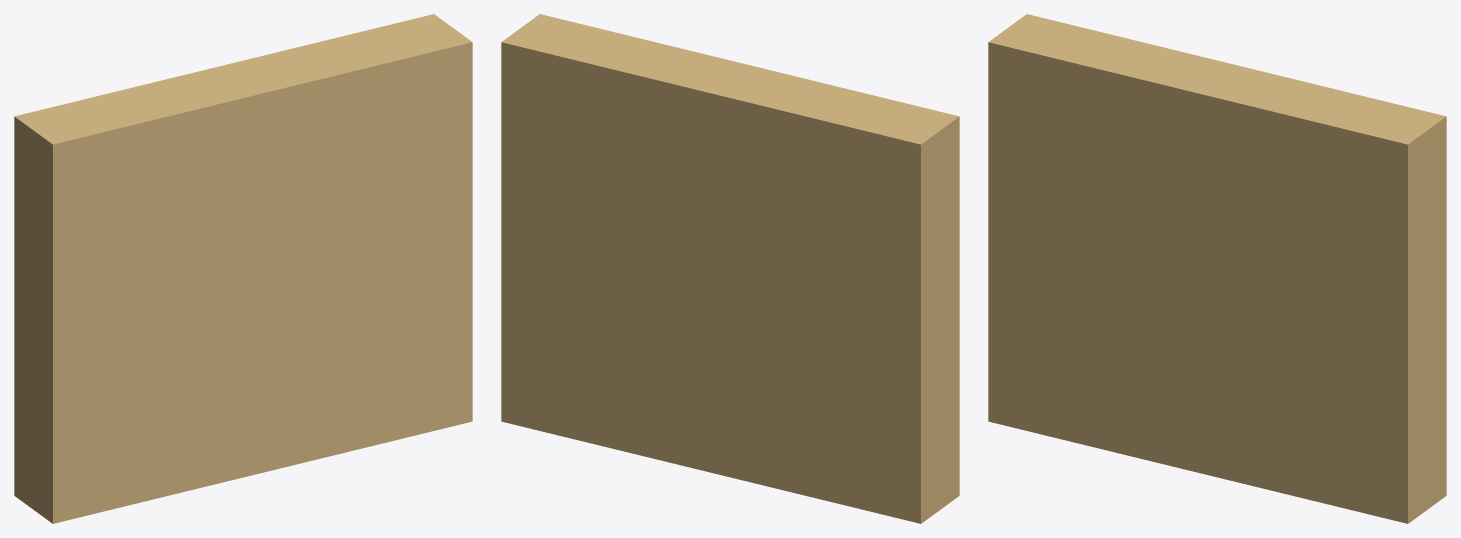
The picture shows the model from 3 angles, left to right: view 1: azimuth 30°, elevation 25°; view 2: azimuth 150°, elevation 25°; view 3: azimuth 330°, elevation 25°; orthographic projection.
Parts seen in each view (by area): view 1: GF-L12-BLK-SUP-B4-S1-011; view 2: GF-L12-BLK-SUP-B4-S1-011; view 3: GF-L12-BLK-SUP-B4-S1-011.
Boxes of the visible parts, x1,y1,x2,y2 form: GF-L12-BLK-SUP-B4-S1-011: (14, 14, 472, 523); GF-L12-BLK-SUP-B4-S1-011: (501, 14, 959, 523); GF-L12-BLK-SUP-B4-S1-011: (988, 14, 1446, 523).
Size of the model in its own units: 0.22 by 0.19 by 0.035.
